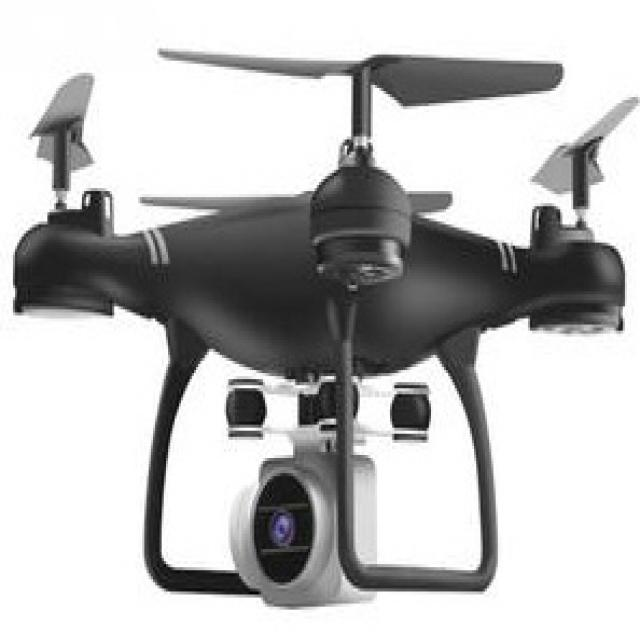drone: (0, 20, 634, 631)
